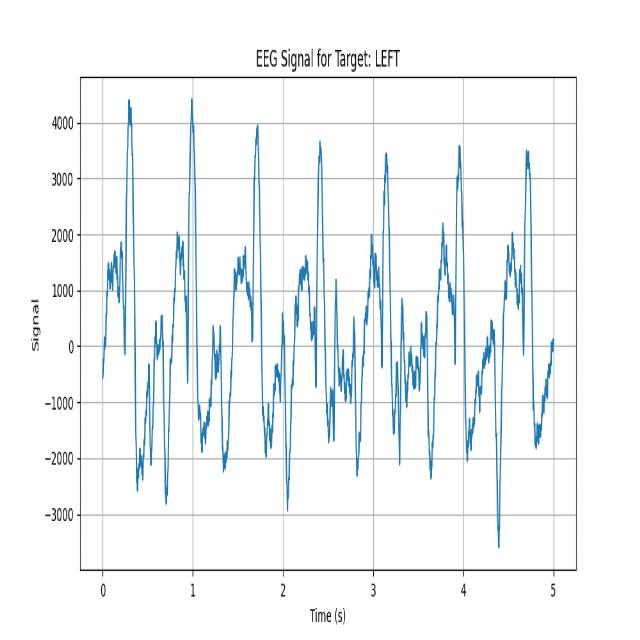LEFT: (160, 98, 220, 529), (219, 99, 280, 521), (419, 117, 485, 500), (103, 98, 161, 527), (279, 95, 335, 521), (360, 116, 418, 493)
